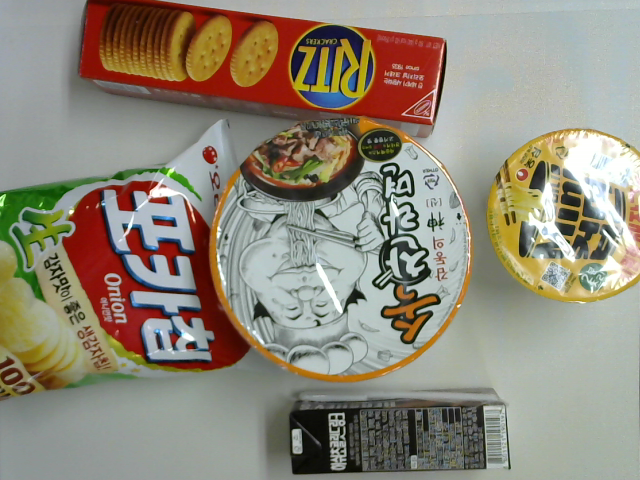Hejangchan: (203, 115, 474, 387)
Hejangmini: (487, 127, 640, 307)
Hush_Choco_Drink: (289, 386, 519, 478)
Pocachip_Onion: (1, 115, 256, 403)
Ritz_Cracker: (74, 1, 450, 141)
